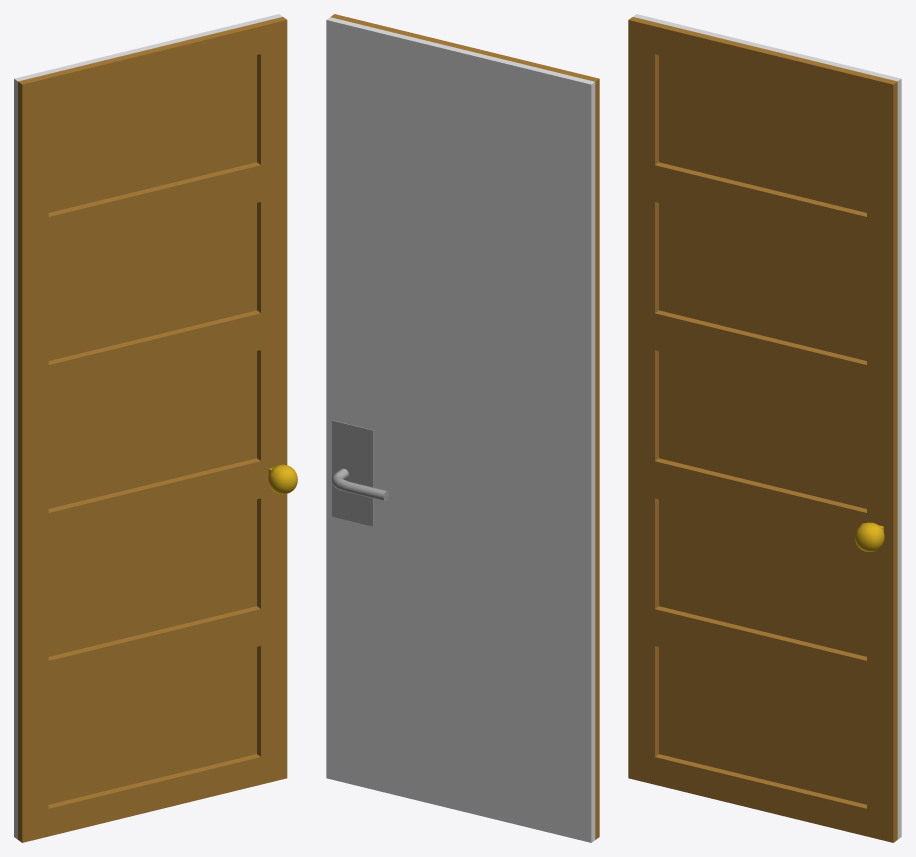
File: Door.fbx
The picture shows the model from 3 angles, left to right: view 1: azimuth 30°, elevation 25°; view 2: azimuth 150°, elevation 25°; view 3: azimuth 330°, elevation 25°; orthographic projection.
Parts seen in each view (by area): view 1: Door1, Door_handle_basement; view 2: Door1, Door_Handle_Lab_Plate, Door_Handle_Lab; view 3: Door1, Door_handle_basement.
Part boxes in pixels (box(x1,y1,x2,y2)): Door1: box(14, 14, 287, 842); Door_handle_basement: box(268, 464, 297, 494); Door1: box(326, 14, 599, 842); Door_Handle_Lab_Plate: box(332, 420, 373, 526); Door_Handle_Lab: box(332, 468, 388, 501); Door1: box(628, 14, 901, 842); Door_handle_basement: box(855, 522, 884, 551).
Size of the model in its own units: 75 by 205 by 20.08.
Materials: 3 (2 with a texture image).
